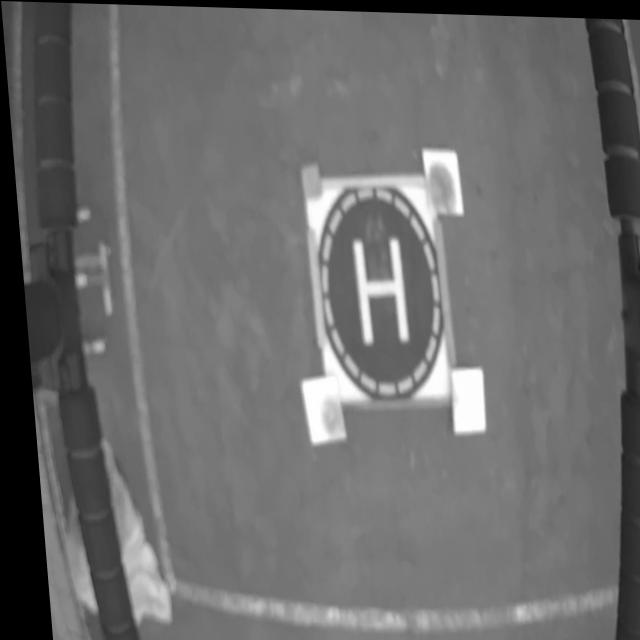Helipad: (349, 236, 403, 344)
